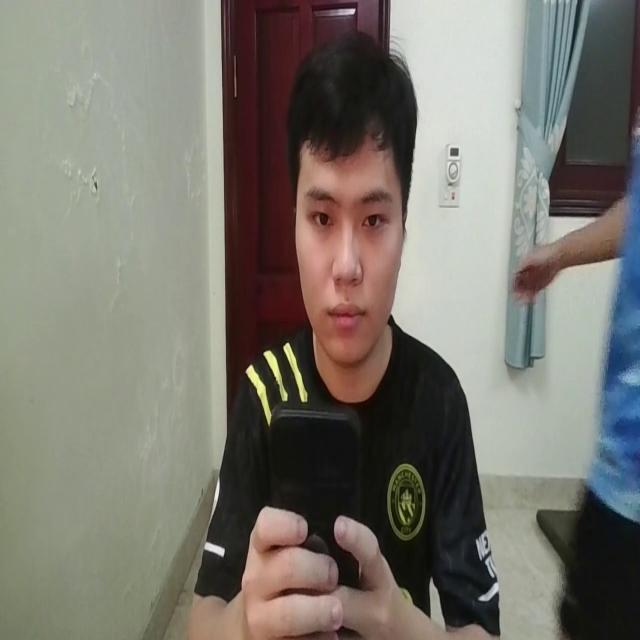extra_person: (519, 102, 640, 640)
phone: (271, 396, 366, 596)
student: (198, 24, 502, 640)
